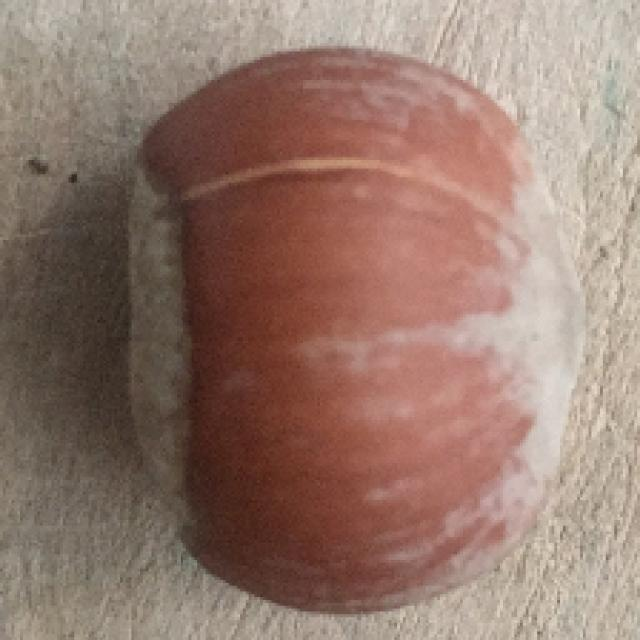qualityHazelnut: (112, 44, 583, 619)
